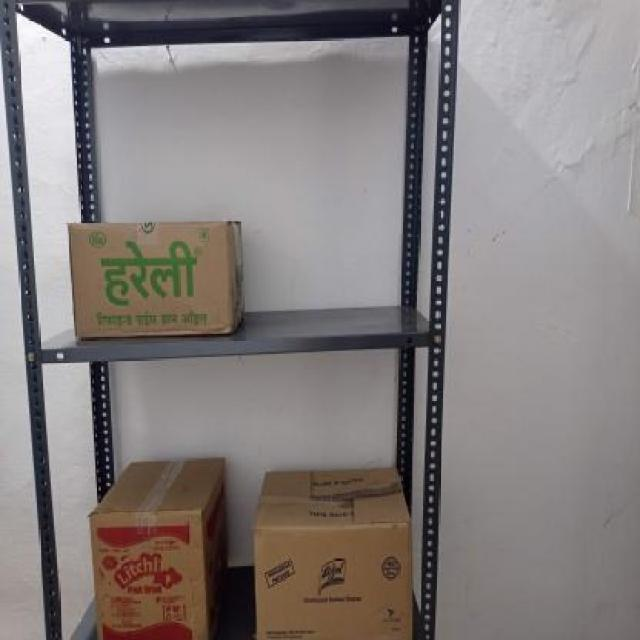box: (251, 520, 413, 640), (76, 219, 229, 338), (95, 512, 200, 640)
